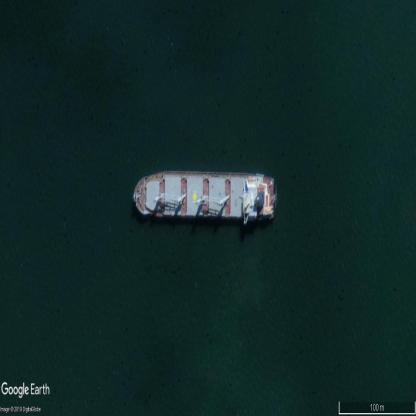ship: (133, 164, 278, 230)
